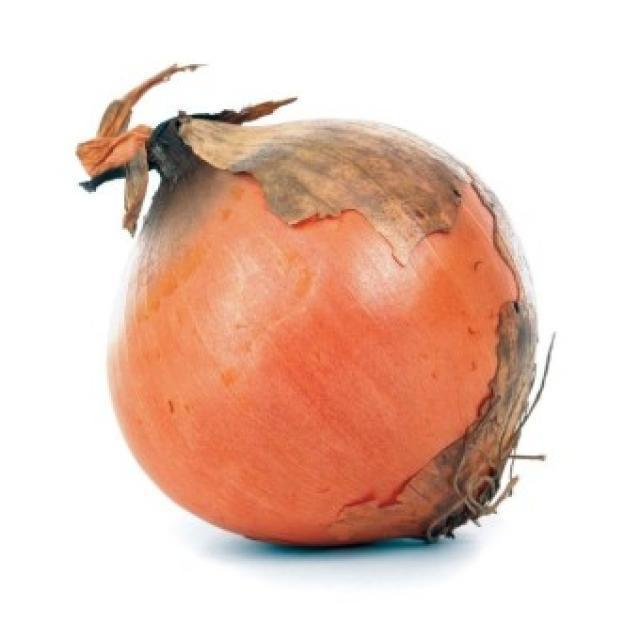onion: (75, 64, 545, 552)
